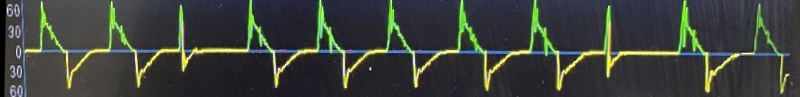hydrop_flow: (18, 0, 800, 97)
